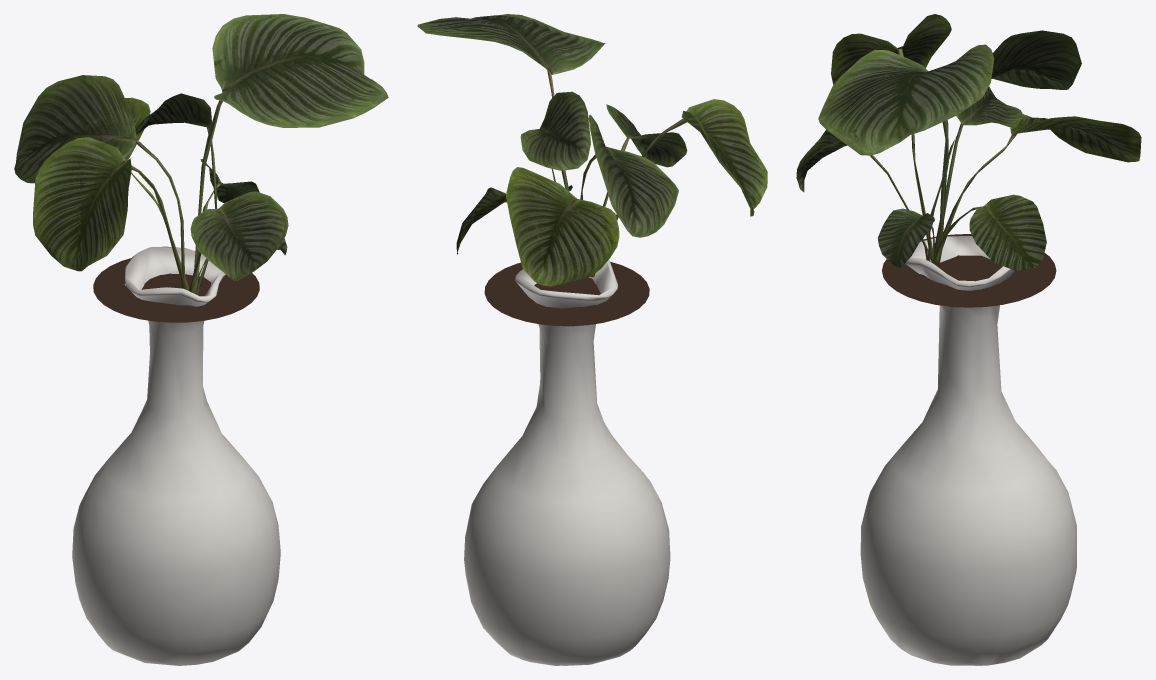
File: maceta_calathea.glb
3 views of the same model, side by side, from view 1: azimuth 30°, elevation 25°; view 2: azimuth 150°, elevation 25°; view 3: azimuth 270°, elevation 25° (orthographic). The views are drawn at different scales.
Parts seen in each view (by area): view 1: ceramic_vase_01, calathea_orbifolia_01_a, tierra; view 2: ceramic_vase_01, calathea_orbifolia_01_a, tierra; view 3: ceramic_vase_01, calathea_orbifolia_01_a, tierra.
Part boxes in pixels (x1=…): ceramic_vase_01: x1=72, y1=246, x2=280, y2=665; calathea_orbifolia_01_a: x1=14, y1=14, x2=388, y2=295; tierra: x1=93, y1=258, x2=259, y2=322; ceramic_vase_01: x1=464, y1=260, x2=670, y2=665; calathea_orbifolia_01_a: x1=417, y1=14, x2=767, y2=286; tierra: x1=484, y1=261, x2=649, y2=326; ceramic_vase_01: x1=860, y1=236, x2=1076, y2=665; calathea_orbifolia_01_a: x1=796, y1=14, x2=1141, y2=270; tierra: x1=882, y1=234, x2=1056, y2=307.
Bounding box in the file's own units: 0.5706 × 0.9927 × 0.4989.
Materials: 3 (2 with a texture image).
